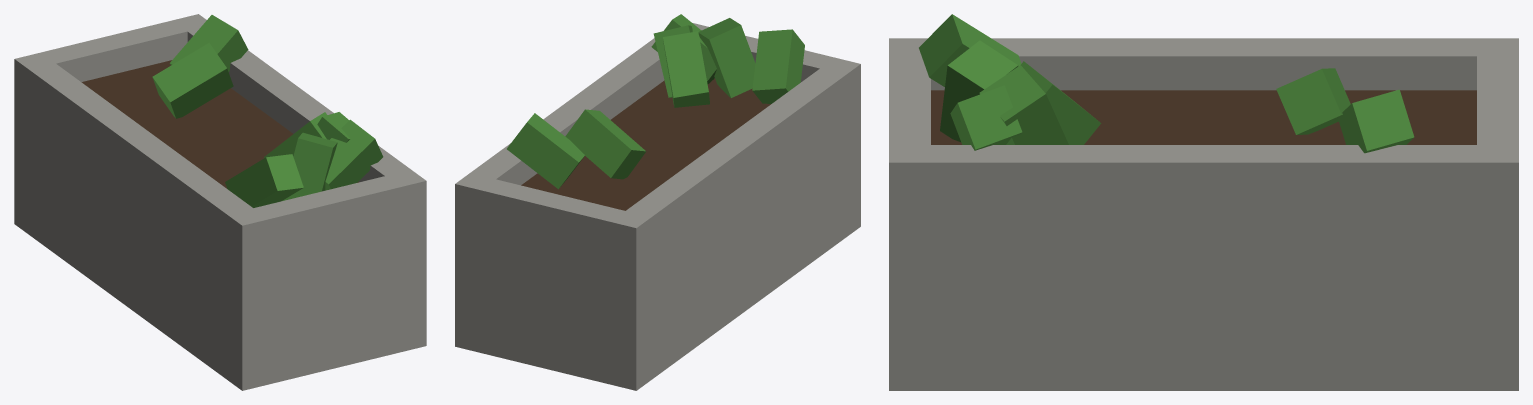
Rendered from planter.glb.
The picture shows the model from 3 angles, left to right: view 1: azimuth 30°, elevation 25°; view 2: azimuth 150°, elevation 25°; view 3: azimuth 270°, elevation 25°; orthographic projection. The views are drawn at different scales.
Visible parts, largest first — view 1: planter; view 2: planter; view 3: planter.
Boxes of the visible parts, x1,y1,x2,y2 form: planter: (14, 14, 426, 390); planter: (455, 14, 860, 390); planter: (889, 14, 1518, 390).
Size of the model in its own units: 0.7 by 0.7561 by 1.5.
